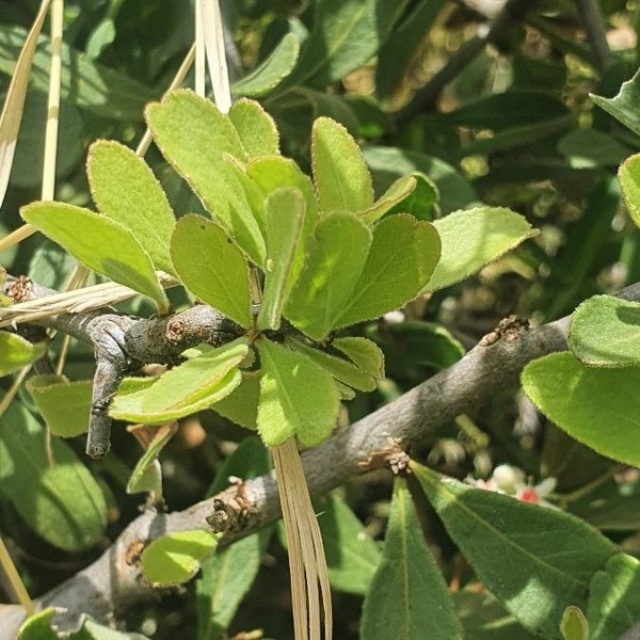obstacle: (27, 93, 419, 432), (338, 434, 615, 615)
